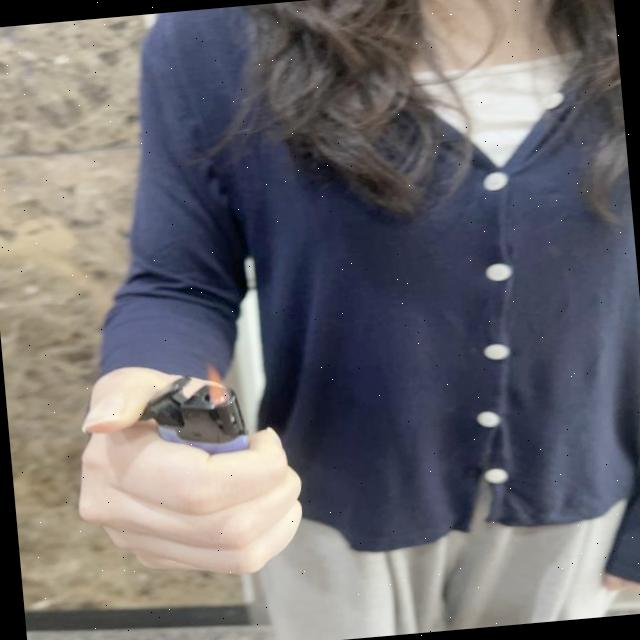fire: (205, 361, 233, 406)
